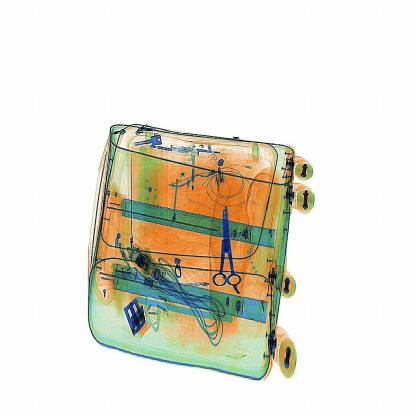gun: (213, 194, 250, 291)
